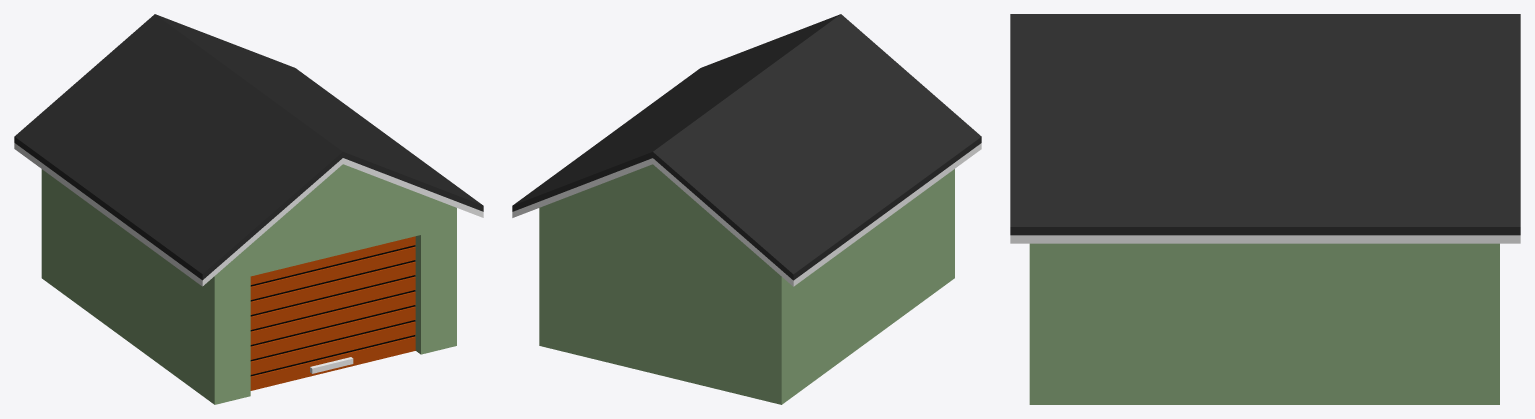
The model's file is Garage-01.fbx.
The picture shows the model from 3 angles, left to right: view 1: azimuth 30°, elevation 25°; view 2: azimuth 150°, elevation 25°; view 3: azimuth 270°, elevation 25°; orthographic projection. The views are drawn at different scales.
Parts seen in each view (by area): view 1: Garage-01; view 2: Garage-01; view 3: Garage-01.
Boxes of the visible parts, left/top/right/bottom form: Garage-01: left=14, top=14, right=483, bottom=404; Garage-01: left=512, top=14, right=981, bottom=404; Garage-01: left=1010, top=14, right=1520, bottom=404.
Size of what is drawn, in the model's own units: 6.24 by 4.86 by 7.24.
